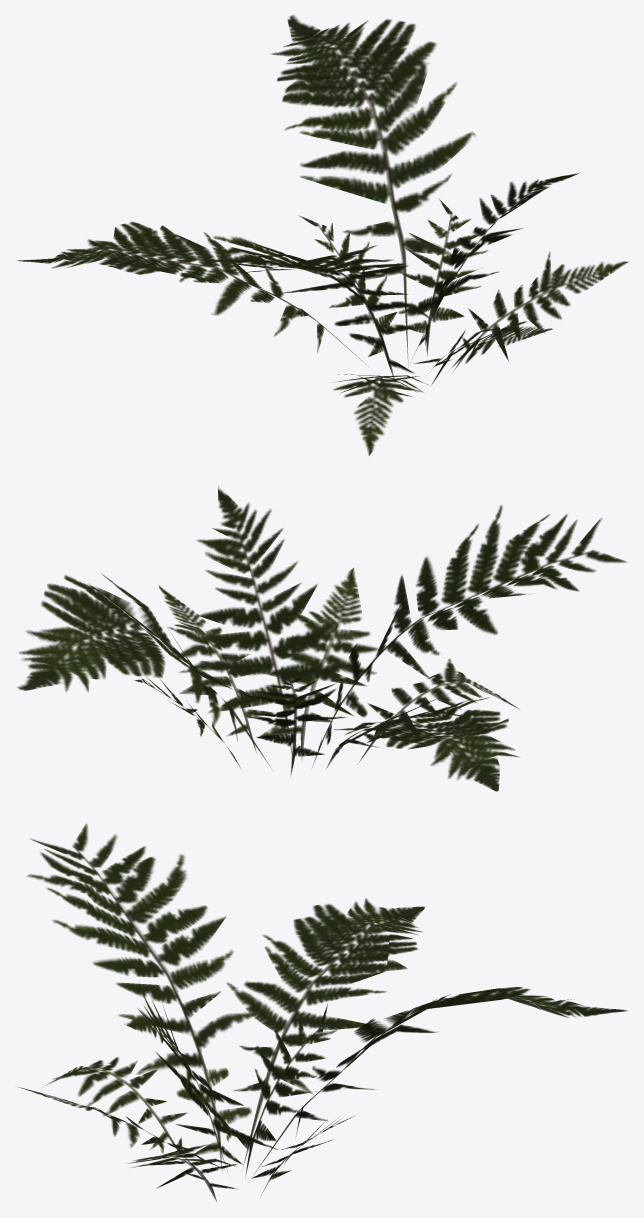
File: veg-44.glb
3 views of the same model, one above another, from view 1: azimuth 30°, elevation 25°; view 2: azimuth 150°, elevation 25°; view 3: azimuth 270°, elevation 25° (orthographic). The views are drawn at different scales.
Parts seen in each view (by area): view 1: _q7qc_VarG_LOD2_44; view 2: _q7qc_VarG_LOD2_44; view 3: _q7qc_VarG_LOD2_44.
Part boxes in pixels (x1=…): _q7qc_VarG_LOD2_44: x1=17, y1=15, x2=628, y2=455; _q7qc_VarG_LOD2_44: x1=17, y1=486, x2=626, y2=791; _q7qc_VarG_LOD2_44: x1=17, y1=823, x2=628, y2=1201.
Size of the model in its own units: 0.5445 by 0.263 by 0.5882.
1 material, 1 textured.
